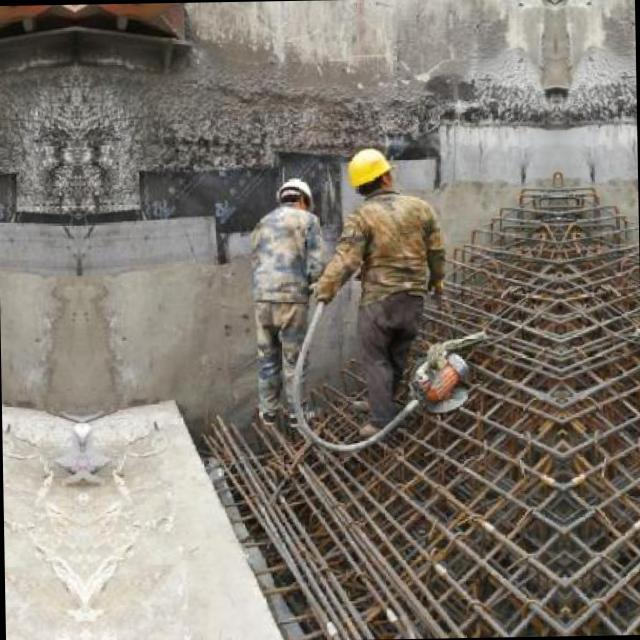helmet: (343, 142, 397, 204), (271, 174, 316, 222)
